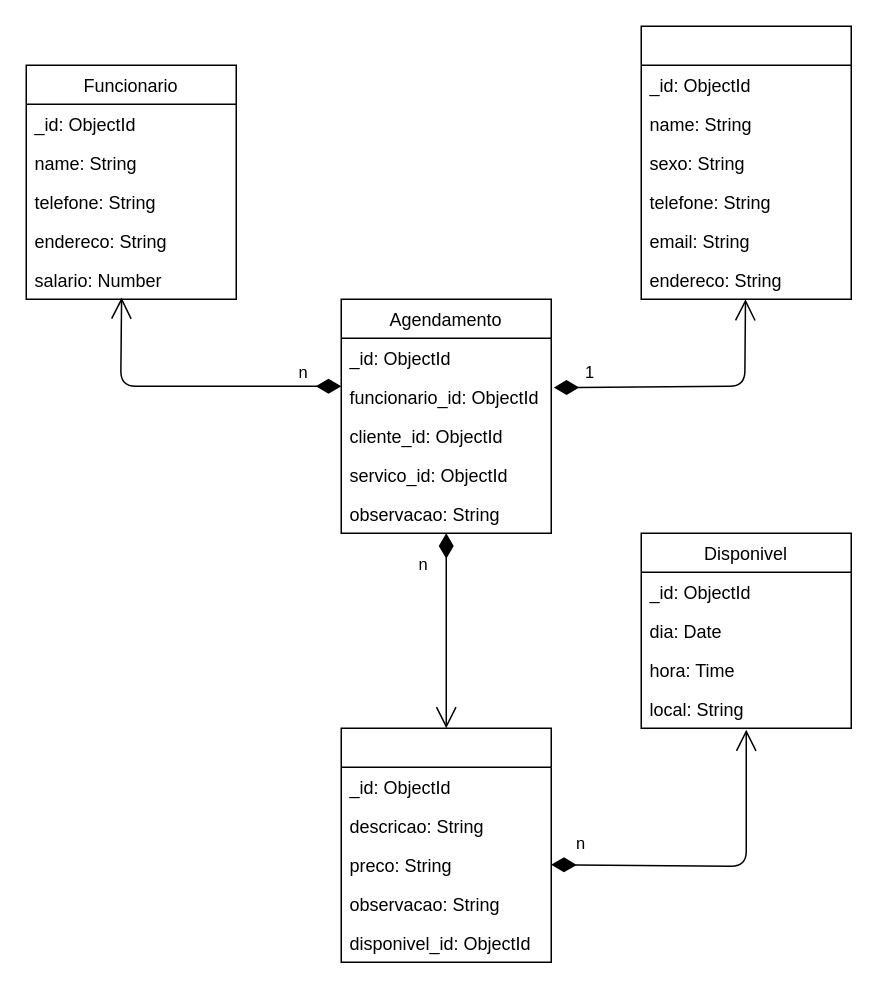
The diagram is 878 pixels wide and 993 high, and some of its shapes have lost their labels. The box of each missing label's shape, as (x1, y1, x2, y2) in pixels:
Cliente: (640, 25, 851, 299)
Servico: (340, 727, 551, 962)
